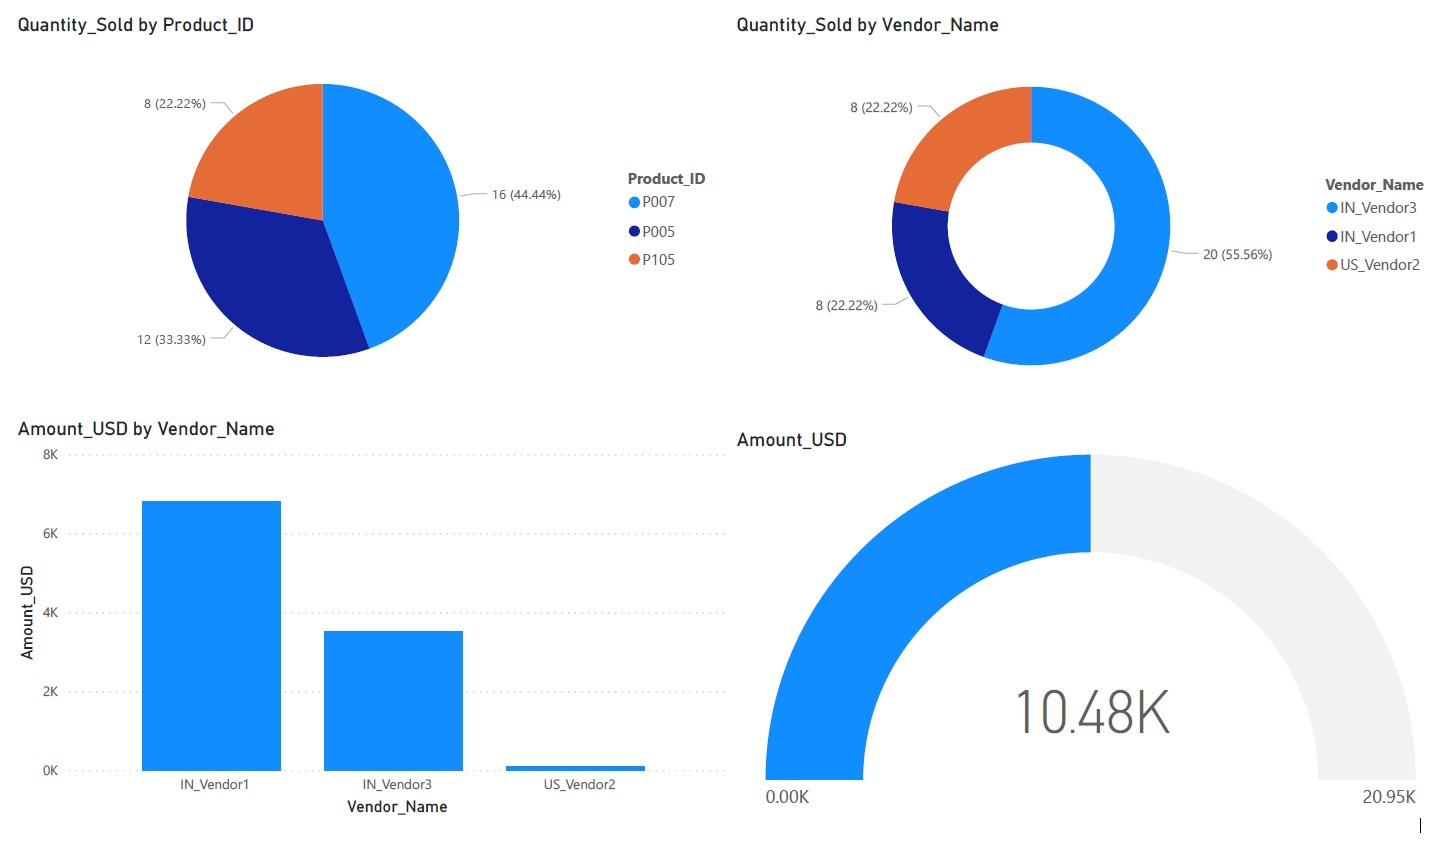

The dashboard page shown, as its layout file describes it:
{"tool":"powerbi","page":{"name":"Page 1","canvas":[1280,720],"ordinal":0},"visuals":[{"type":"columnChart","fields":{"Category":["retailstorespipelinedb finalsales.Vendor_Name"],"Y":["Sum(retailstorespipelinedb finalsales.Amount_USD)"]},"box":[0,359.8,640,359.8],"z":0},{"type":"pieChart","fields":{"Category":["retailstorespipelinedb finalsales.Product_ID"],"Y":["Sum(retailstorespipelinedb finalsales.Quantity_Sold)"]},"box":[0,0,640,350.2],"z":1},{"type":"donutChart","fields":{"Category":["retailstorespipelinedb finalsales.Vendor_Name"],"Y":["Sum(retailstorespipelinedb finalsales.Quantity_Sold)"]},"box":[640,0,640,359.8],"z":2},{"type":"gauge","fields":{"Y":["Sum(retailstorespipelinedb finalsales.Amount_USD)"]},"box":[640,369.4,640,350.2],"z":3}]}

Visuals, with their boxes on the page's 1280x720 design canvas (x1, y1, x2, y2). These are canvas units, not pixel positions in the 1456x845 screenshot, which may show the page scaled, cropped or inside an application window:
columnChart - retailstorespipelinedb finalsales.Vendor_Name x Sum(retailstorespipelinedb finalsales.Amount_USD): {"x1": 0, "y1": 360, "x2": 640, "y2": 720}
pieChart - retailstorespipelinedb finalsales.Product_ID x Sum(retailstorespipelinedb finalsales.Quantity_Sold): {"x1": 0, "y1": 0, "x2": 640, "y2": 350}
donutChart - retailstorespipelinedb finalsales.Vendor_Name x Sum(retailstorespipelinedb finalsales.Quantity_Sold): {"x1": 640, "y1": 0, "x2": 1280, "y2": 360}
gauge - Sum(retailstorespipelinedb finalsales.Amount_USD): {"x1": 640, "y1": 369, "x2": 1280, "y2": 720}
